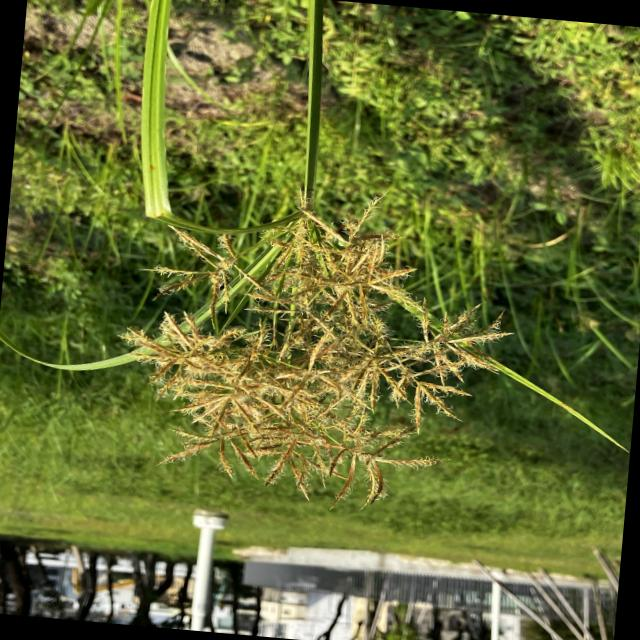cyperus: (90, 190, 522, 520)
